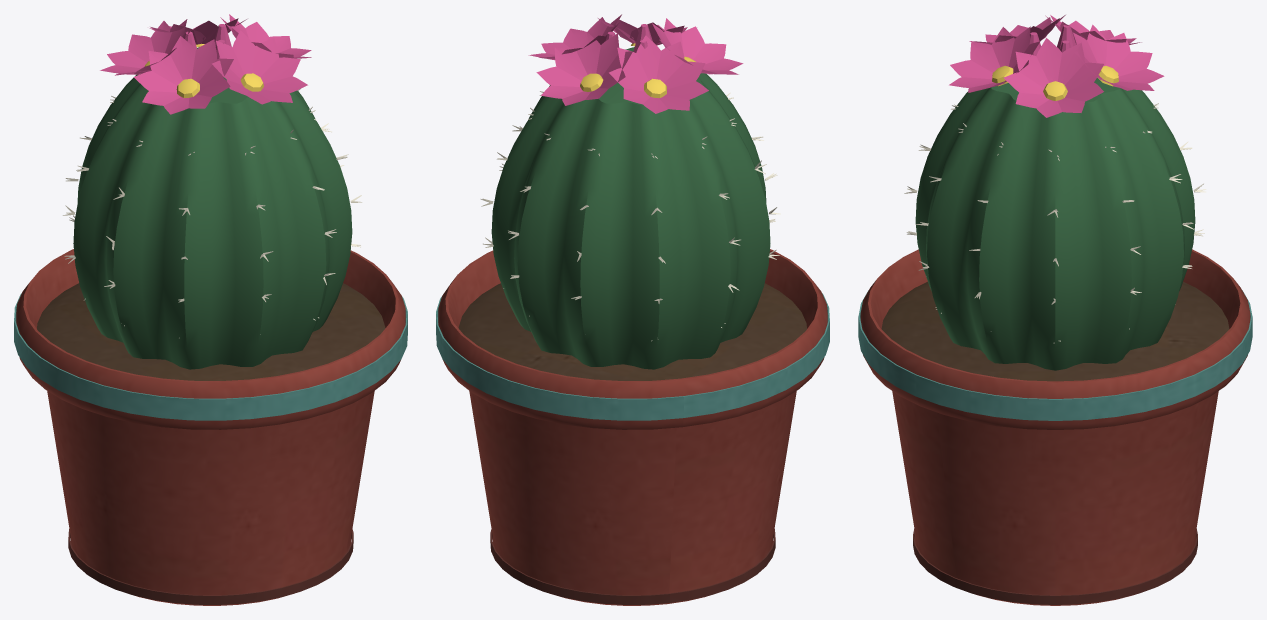
Rendered from potted_cactus_bloom.glb.
The picture shows the model from 3 angles, left to right: view 1: azimuth 30°, elevation 25°; view 2: azimuth 150°, elevation 25°; view 3: azimuth 270°, elevation 25°; orthographic projection.
Parts seen in each view (by area): view 1: PottedCactusBloomBody; view 2: PottedCactusBloomBody; view 3: PottedCactusBloomBody.
Boxes of the visible parts, <box> form: PottedCactusBloomBody: <box>14,14,407,605</box>; PottedCactusBloomBody: <box>436,14,829,605</box>; PottedCactusBloomBody: <box>858,15,1252,605</box>.
Bounding box in the file's own units: 0.2174 × 0.3169 × 0.2174.
8 materials, 4 textured.
